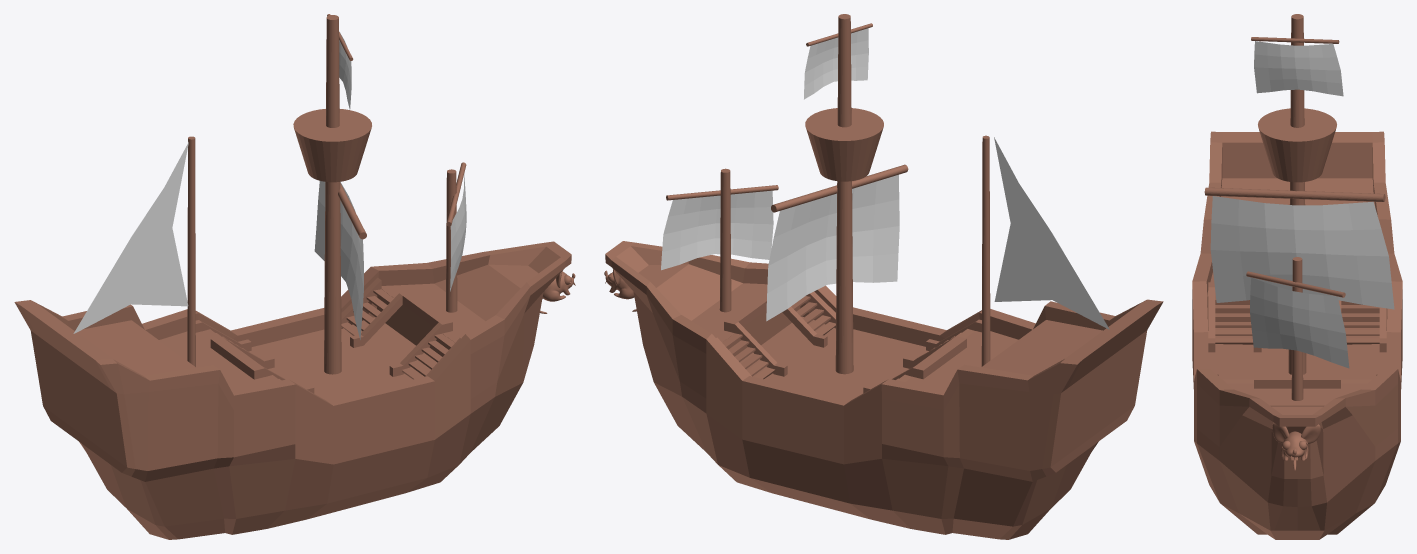
File: Temp_MiceBoat.fbx
The picture shows the model from 3 angles, left to right: view 1: azimuth 30°, elevation 25°; view 2: azimuth 150°, elevation 25°; view 3: azimuth 270°, elevation 25°; orthographic projection.
Visible parts, largest first — view 1: Cube, Cylinder.005; view 2: Cube, Cylinder.005; view 3: Cube, Cylinder.005, PolySphere2_copy1.002.
Part boxes in pixels (<box>): Cube: <box>14,241,571,539</box>; Cylinder.005: <box>73,14,466,374</box>; Cube: <box>605,241,1163,539</box>; Cylinder.005: <box>661,14,1109,374</box>; Cube: <box>1192,131,1402,539</box>; Cylinder.005: <box>1204,14,1394,400</box>; PolySphere2_copy1.002: <box>1272,423,1320,470</box>.
Bounding box in the file's own units: 10360 × 9048 × 3634.
